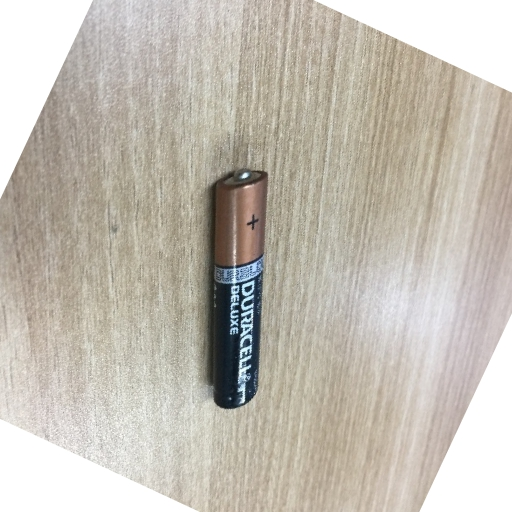Battery_0: (200, 156, 287, 428)
